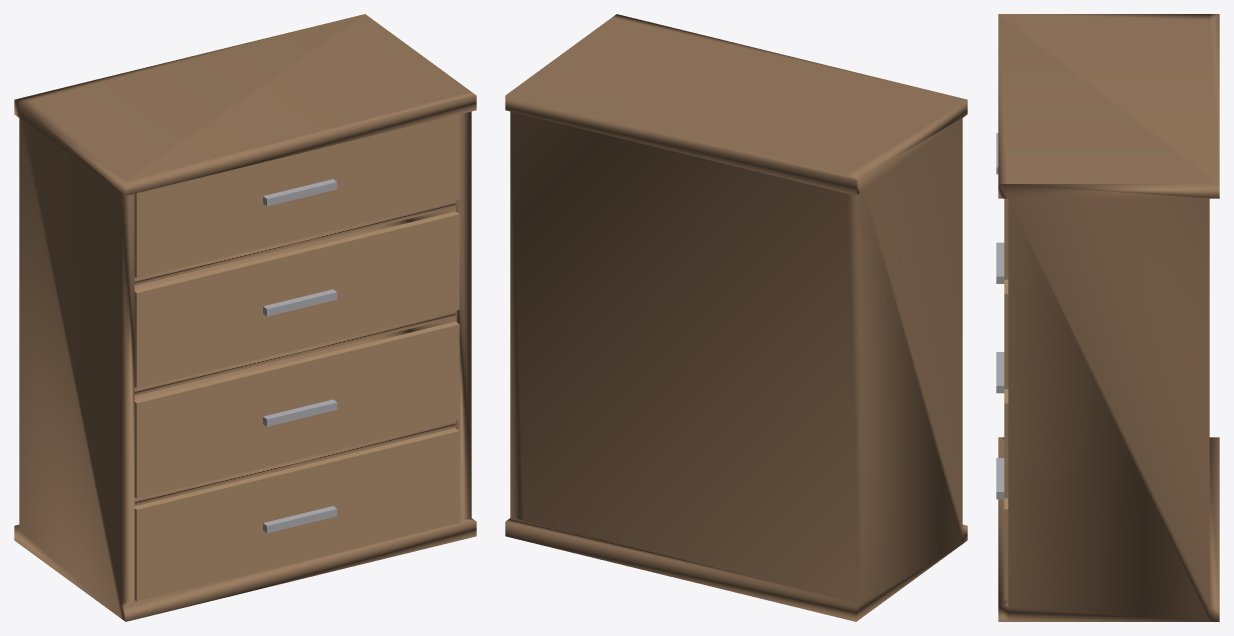
Rendered from dresser.glb.
3 views of the same model, side by side, from view 1: azimuth 30°, elevation 25°; view 2: azimuth 150°, elevation 25°; view 3: azimuth 270°, elevation 25° (orthographic).
Parts seen in each view (by area): view 1: merged_wood_dark, drawer_2, drawer_3, drawer_1, drawer_4, handle_2, handle_1, handle_3, handle_4; view 2: merged_wood_dark; view 3: merged_wood_dark, drawer_2, drawer_3, drawer_1, drawer_4, handle_1, handle_2, handle_3.
Part boxes in pixels (<box>): merged_wood_dark: <box>14,14,476,621</box>; drawer_2: <box>134,321,459,498</box>; drawer_3: <box>134,211,459,388</box>; drawer_1: <box>134,428,459,601</box>; drawer_4: <box>134,114,459,278</box>; handle_2: <box>263,399,337,426</box>; handle_1: <box>263,506,337,533</box>; handle_3: <box>263,289,337,316</box>; handle_4: <box>263,179,337,206</box>; merged_wood_dark: <box>505,14,967,621</box>; merged_wood_dark: <box>998,14,1219,621</box>; drawer_2: <box>1004,389,1008,498</box>; drawer_3: <box>1004,279,1008,388</box>; drawer_1: <box>1004,498,1008,600</box>; drawer_4: <box>1004,198,1008,279</box>; handle_1: <box>996,458,1004,499</box>; handle_2: <box>996,352,1004,393</box>; handle_3: <box>996,242,1004,283</box>.
Size of the model in its own units: 1 by 1.2 by 0.555.
